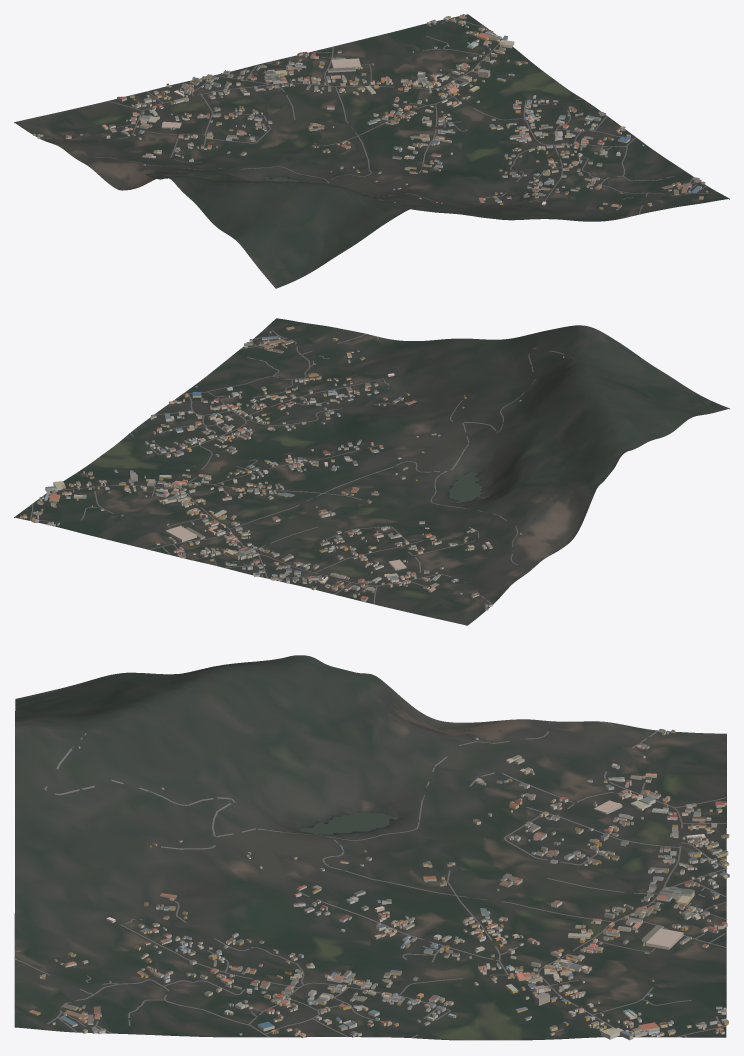
The picture shows the model from 3 angles, top to bottom: view 1: azimuth 30°, elevation 25°; view 2: azimuth 150°, elevation 25°; view 3: azimuth 270°, elevation 25°; orthographic projection. The views are drawn at different scales.
Visible parts, largest first — view 1: ground, buildings, roads; view 2: ground, buildings, roads, water; view 3: ground, buildings, roads, water.
Part boxes in pixels (left/top/right/bottom): ground: left=14, top=14, right=729, bottom=288; buildings: left=33, top=14, right=708, bottom=210; roads: left=39, top=17, right=709, bottom=217; ground: left=14, top=318, right=729, bottom=625; buildings: left=20, top=326, right=564, bottom=610; roads: left=28, top=330, right=574, bottom=604; water: left=448, top=471, right=552, bottom=547; ground: left=14, top=655, right=726, bottom=1040; buildings: left=28, top=728, right=729, bottom=1040; roads: left=14, top=721, right=727, bottom=1038; water: left=300, top=728, right=501, bottom=834.
Bounding box in the file's own units: 1417 × 232 × 1410.
